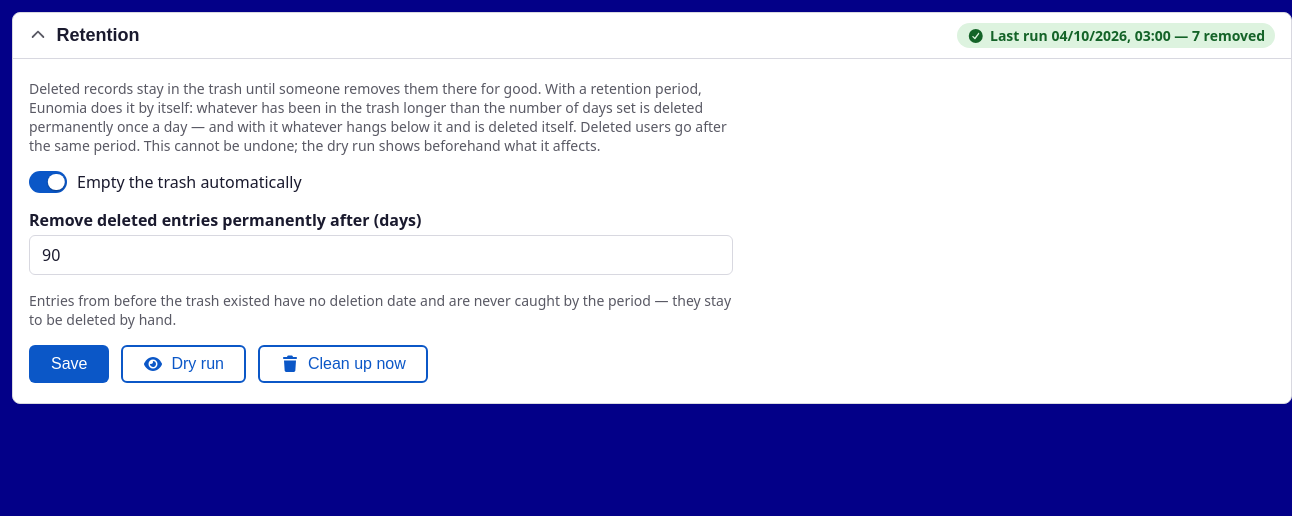
Test case: RetentionSection › reports a dry run in English, with the kinds named
Click the button "Dry run".
click(184, 364)  # box [122,345,246,383]
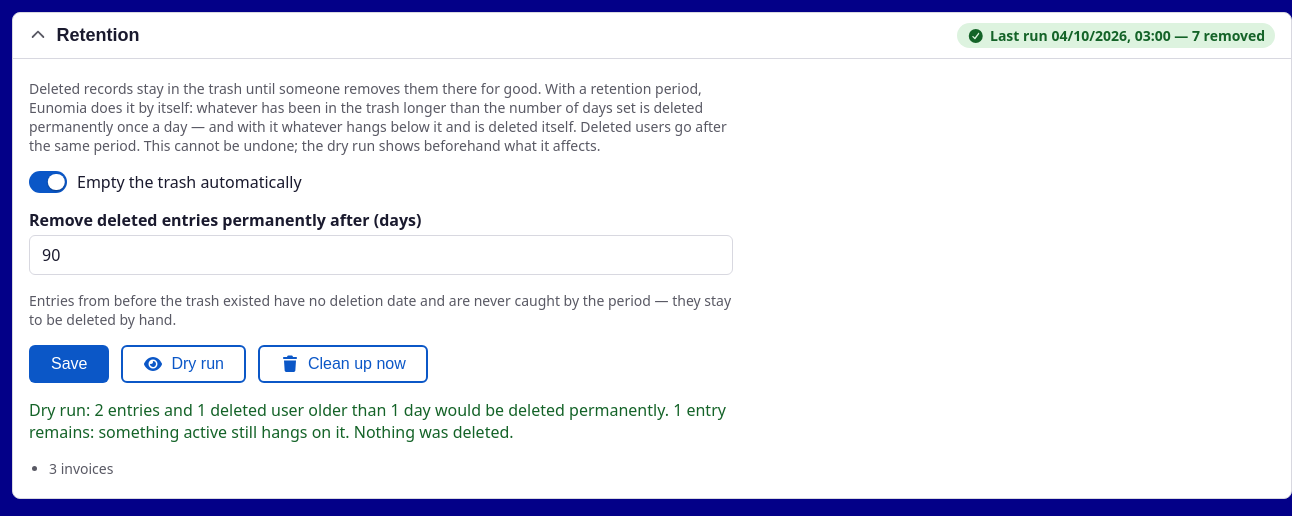
expect the text "Dry run: 2 entries and 1 deleted user older than 1 day would be deleted permanently." is shown: met, box [29,399,726,443]
expect the text "1 entry remains: something active still hangs on it." is shown: met, box [29,399,726,443]
expect the text "3 invoices" is shown: met, box [49,459,113,478]
